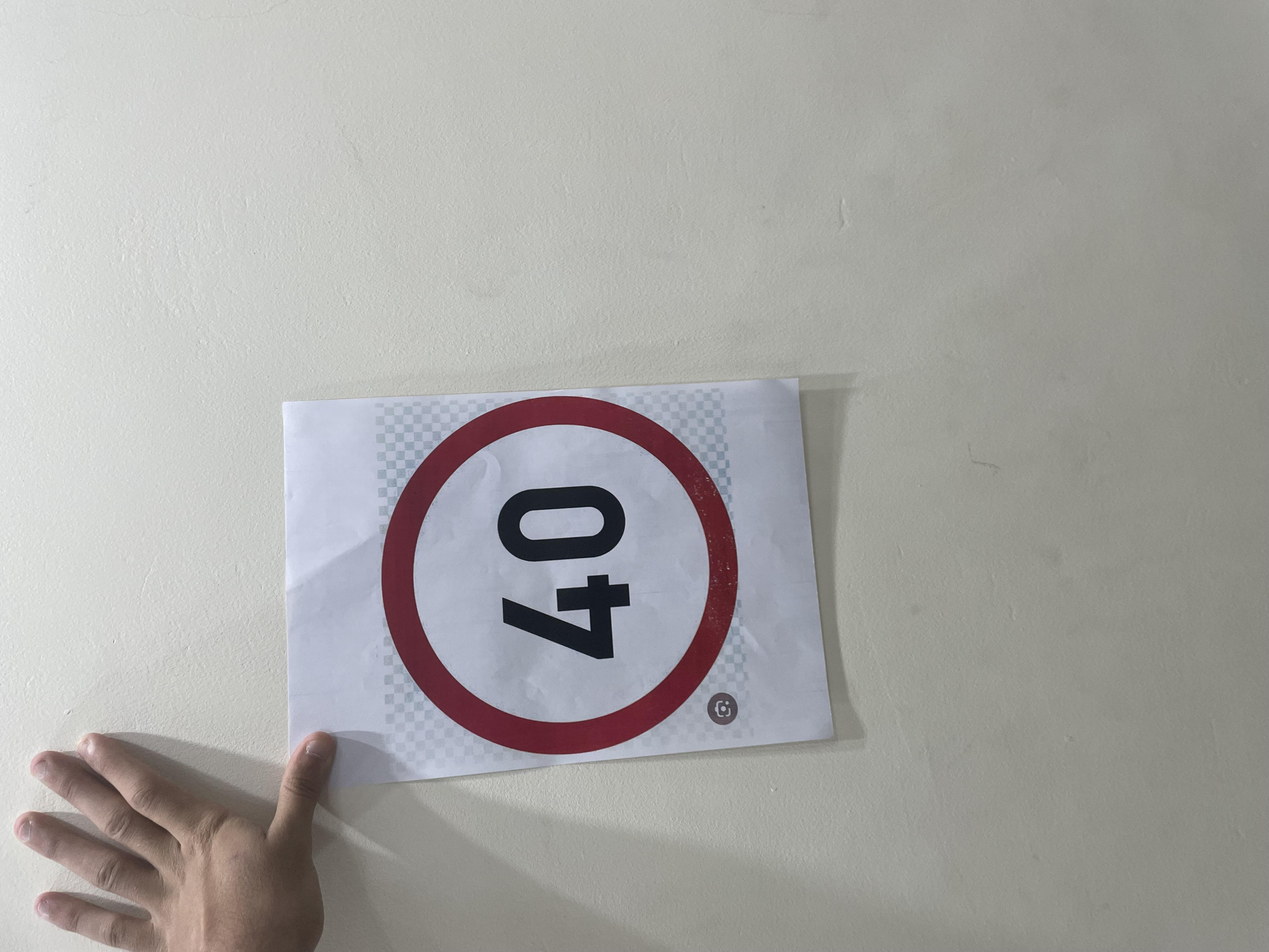40-Speed: (261, 284, 751, 553)
